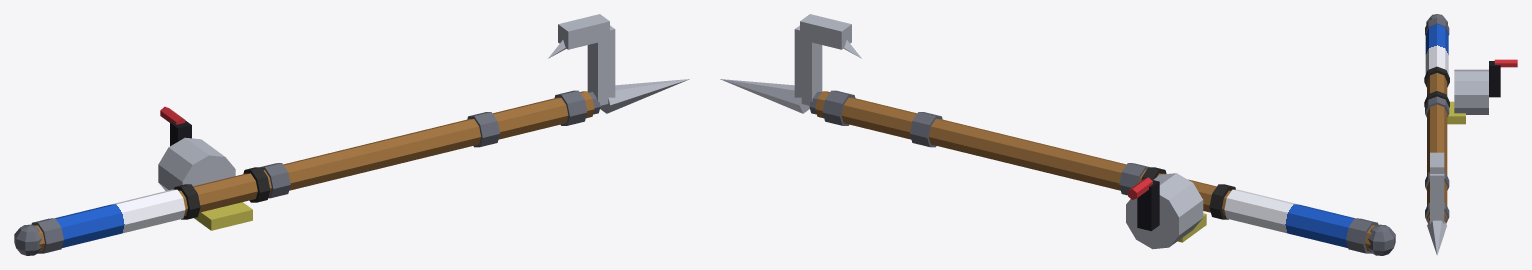
File: gaffe_grappin.glb
3 renders of one model, left to right at view 1: azimuth 30°, elevation 25°; view 2: azimuth 150°, elevation 25°; view 3: azimuth 270°, elevation 25°, orthographic. The views are drawn at different scales.
Parts seen in each view (by area): view 1: p_cyl.1662, p_cyl.1667, p_cyl.1668, p_box.8386, p_box.8387, p_cone.449, p_box.8385, p_sph.1586, p_cyl.1663, p_cyl.1666, p_cyl.1665, p_cyl.1664 (+3 smaller); view 2: p_cyl.1662, p_cyl.1667, p_cyl.1668, p_box.8386, p_box.8387, p_cone.449, p_box.8384, p_sph.1586, p_cyl.1663, p_cyl.1666, p_cyl.1665, p_cyl.1664 (+1 smaller); view 3: p_cyl.1662, p_cyl.1668, p_cyl.1667, p_box.8386, p_box.8384, p_cone.449, p_box.8387, p_box.8385, p_cyl.1664, p_cyl.1672, p_cyl.1663, p_cyl.1671 (+4 smaller).
Boxes of the visible parts, x1,y1,x2,y2 form: p_cyl.1662: (34, 91, 594, 251); p_cyl.1667: (55, 189, 185, 247); p_cyl.1668: (158, 137, 235, 190); p_box.8386: (587, 25, 615, 105); p_box.8387: (558, 14, 609, 49); p_cone.449: (600, 79, 689, 113); p_box.8385: (194, 202, 252, 230); p_sph.1586: (14, 224, 41, 255); p_cyl.1663: (31, 218, 63, 253); p_cyl.1666: (554, 90, 587, 125); p_cyl.1665: (467, 112, 499, 147); p_cyl.1664: (260, 163, 290, 198); p_cyl.1662: (815, 91, 1375, 251); p_cyl.1667: (1224, 189, 1354, 247); p_cyl.1668: (1126, 173, 1203, 249); p_box.8386: (794, 25, 822, 105); p_box.8387: (800, 14, 851, 49); p_cone.449: (720, 79, 809, 113); p_box.8384: (1137, 179, 1159, 231); p_sph.1586: (1368, 224, 1395, 255); p_cyl.1663: (1346, 218, 1378, 253); p_cyl.1666: (822, 90, 855, 125); p_cyl.1665: (910, 112, 942, 147); p_cyl.1664: (1119, 163, 1149, 195); p_cyl.1662: (1427, 73, 1447, 222); p_cyl.1668: (1454, 69, 1488, 114); p_cyl.1667: (1425, 24, 1448, 74); p_box.8386: (1430, 174, 1444, 223); p_box.8384: (1489, 61, 1500, 97); p_cone.449: (1427, 220, 1446, 255); p_box.8387: (1430, 152, 1444, 173); p_box.8385: (1447, 101, 1465, 124); p_cyl.1664: (1425, 96, 1449, 117); p_cyl.1672: (1424, 66, 1449, 87); p_cyl.1663: (1425, 17, 1449, 35); p_cyl.1671: (1494, 59, 1517, 67).
Bounding box in the file's own units: 1.93 × 0.31 × 0.325.
10 materials, 1 textured.
